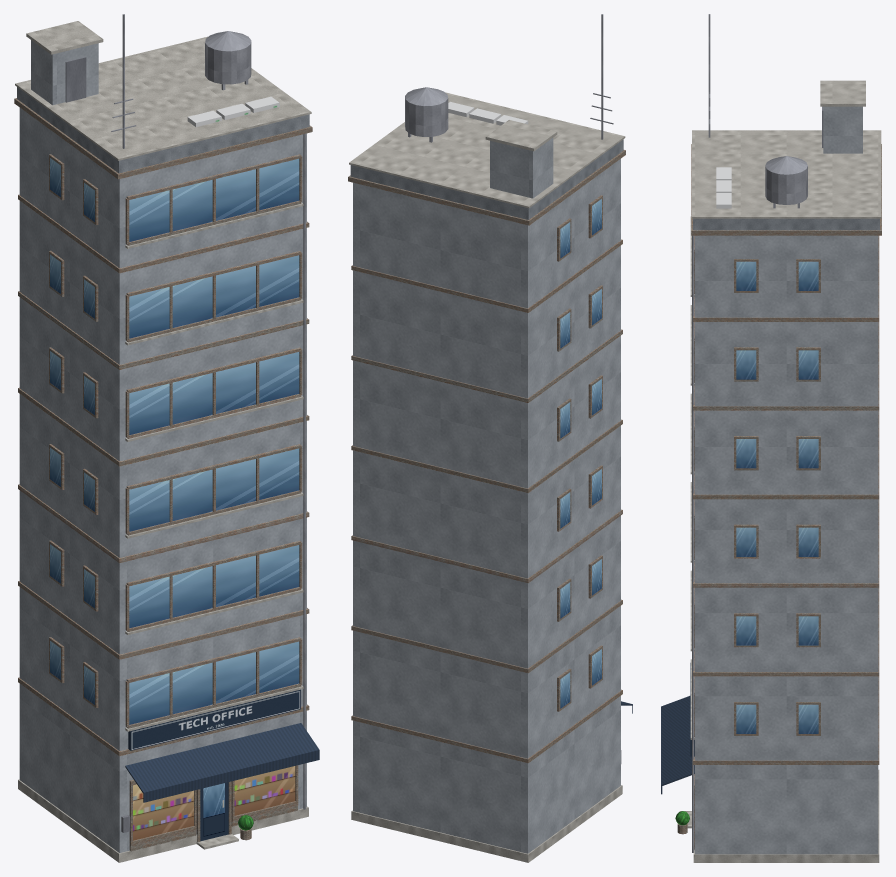
File: b7_office_tower.glb
3 renders of one model, left to right at view 1: azimuth 30°, elevation 25°; view 2: azimuth 150°, elevation 25°; view 3: azimuth 270°, elevation 25°, orthographic. The views are drawn at different scales.
Visible parts, largest first — view 1: wall, glass, concrete, solid_#25384e, solid_#6f7780, awning, metal, glass_shop, parapet, sign, door, ac (+1 smaller); view 2: wall, concrete, solid_#6f7780, glass, parapet, solid_#25384e, metal, ac; view 3: wall, concrete, solid_#6f7780, glass, solid_#25384e, metal, awning, parapet, ac.
Boxes of the visible parts, <box> form: wall: <box>19,40,306,852</box>; glass: <box>50,158,299,724</box>; concrete: <box>15,21,311,862</box>; solid_#25384e: <box>49,154,302,845</box>; solid_#6f7780: <box>14,98,312,851</box>; awning: <box>125,723,319,802</box>; metal: <box>111,14,305,809</box>; glass_shop: <box>133,766,295,840</box>; parapet: <box>17,87,309,173</box>; sign: <box>128,689,300,750</box>; door: <box>200,782,228,841</box>; ac: <box>187,96,279,126</box>; wall: <box>353,138,620,853</box>; concrete: <box>349,92,625,862</box>; solid_#6f7780: <box>348,150,625,763</box>; glass: <box>560,199,601,708</box>; parapet: <box>350,139,623,219</box>; solid_#25384e: <box>557,195,602,711</box>; metal: <box>405,14,613,142</box>; ac: <box>448,101,528,125</box>; wall: <box>695,106,878,854</box>; concrete: <box>679,80,881,862</box>; solid_#6f7780: <box>691,144,881,849</box>; glass: <box>736,261,818,733</box>; solid_#25384e: <box>694,235,820,844</box>; metal: <box>692,14,807,852</box>; awning: <box>661,696,694,794</box>; parapet: <box>693,218,879,230</box>; ac: <box>716,167,731,208</box>.
Bounding box in the file's own units: 6.74 × 27.8 × 7.23.
16 materials, 16 textured.
